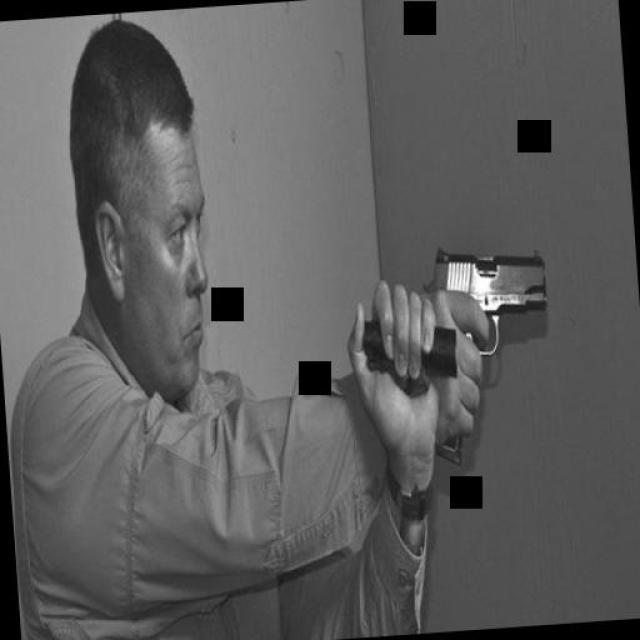gun: (401, 223, 559, 477)
